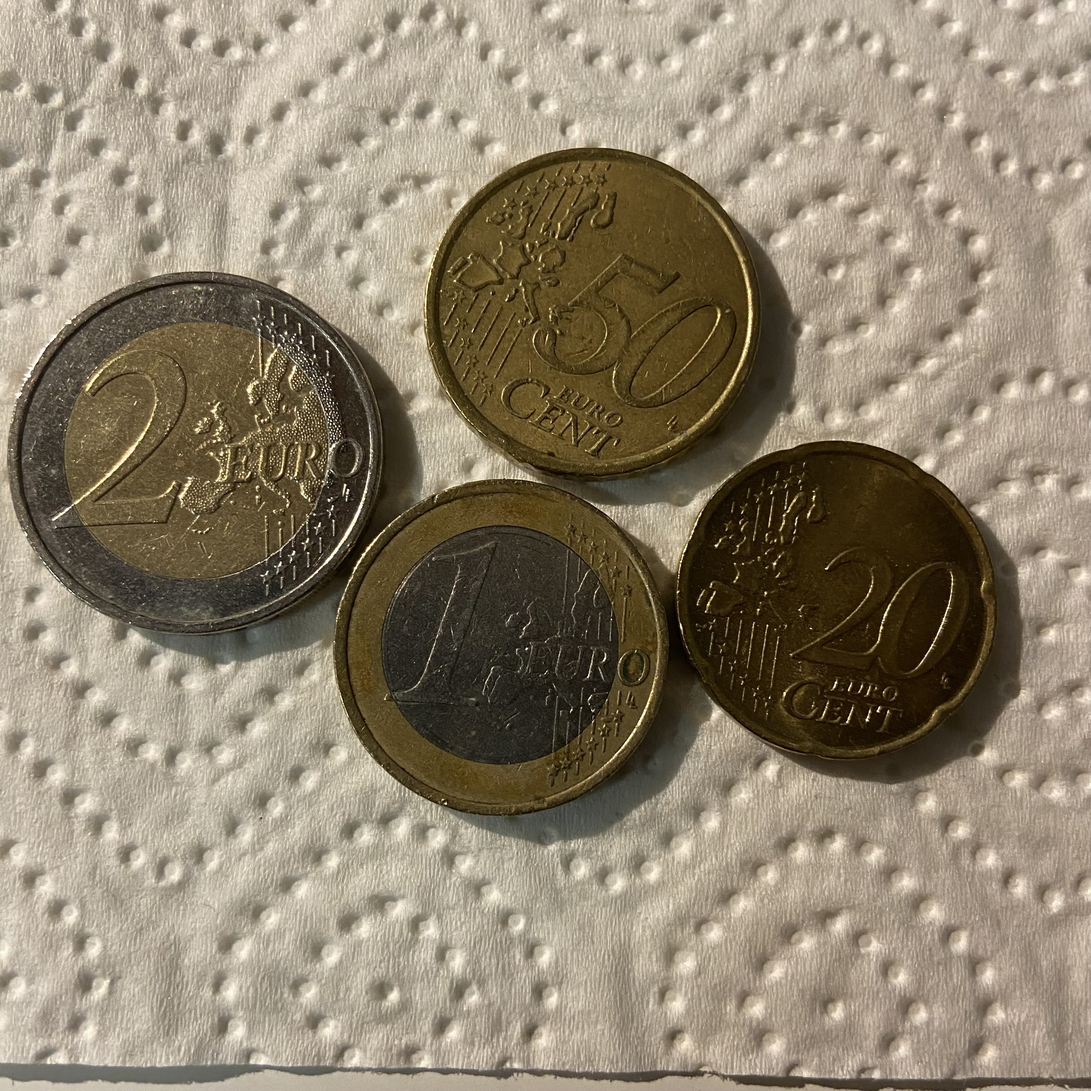1 euro: (326, 475, 673, 817)
2 euro: (12, 271, 393, 648)
20 cent: (677, 442, 996, 759)
50 cent: (414, 146, 779, 476)
